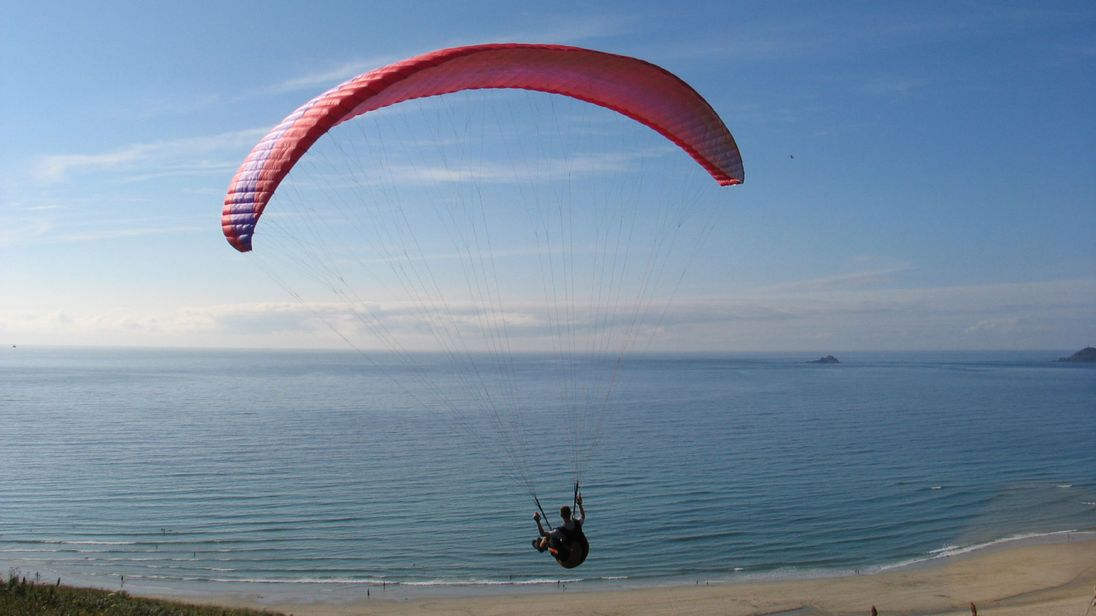Paraglider: (205, 40, 768, 253)
